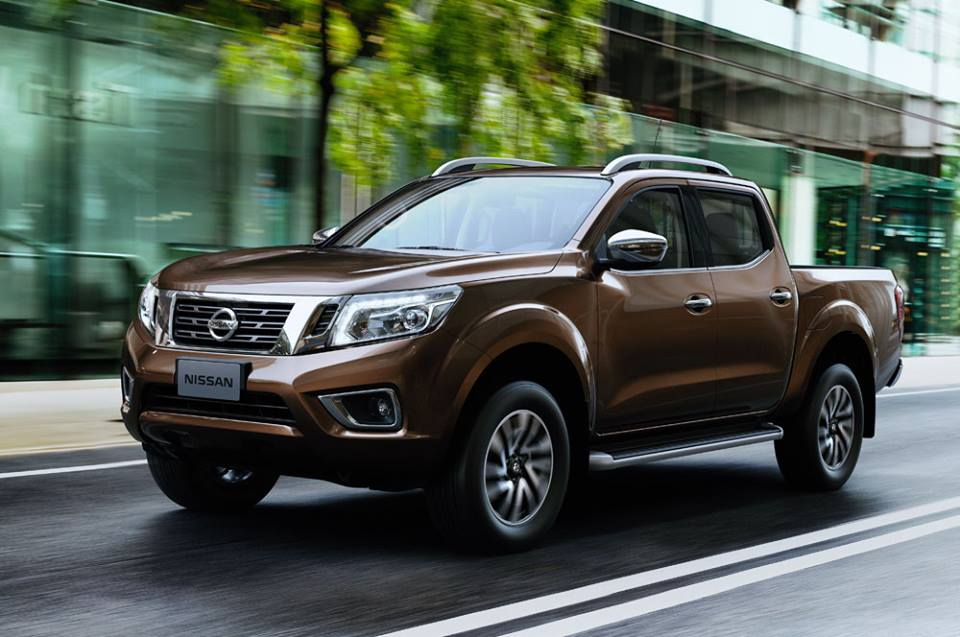pickup: (120, 152, 910, 553)
